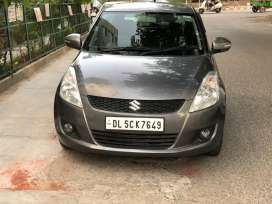license_plate: (105, 117, 165, 131)
